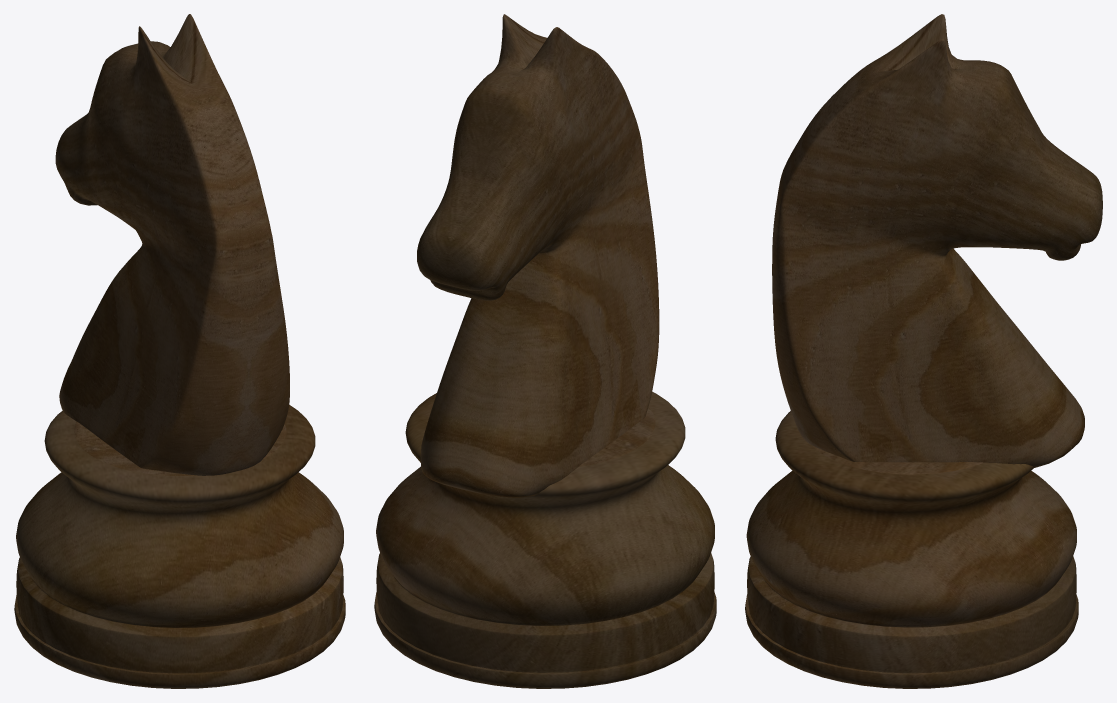
Rendered from knight.glb.
The picture shows the model from 3 angles, left to right: view 1: azimuth 30°, elevation 25°; view 2: azimuth 150°, elevation 25°; view 3: azimuth 270°, elevation 25°; orthographic projection. The views are drawn at different scales.
Visible parts, largest first — view 1: GoldenAuraWoodenKnight; view 2: GoldenAuraWoodenKnight; view 3: GoldenAuraWoodenKnight.
Boxes of the visible parts, x1,y1,x2,y2 form: GoldenAuraWoodenKnight: (14,14,345,688); GoldenAuraWoodenKnight: (374,14,716,688); GoldenAuraWoodenKnight: (745,14,1102,688).
Size of the model in its own units: 0.5004 by 1 by 0.5366.
1 material, 1 textured.
